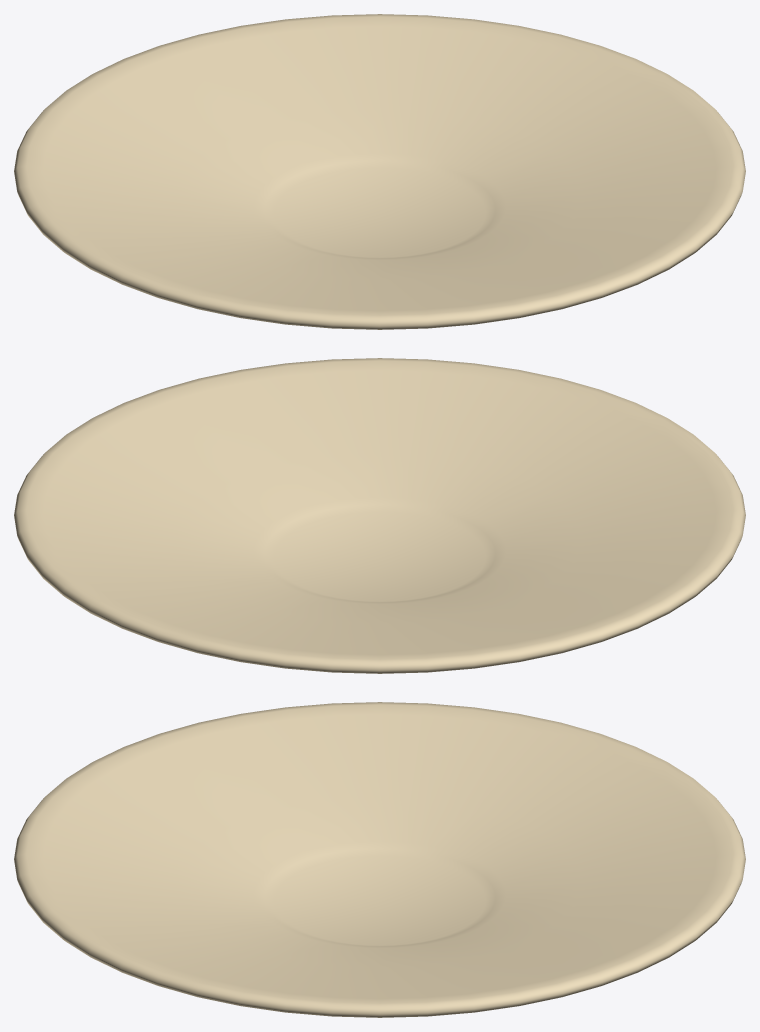
File: Pirex.fbx
The picture shows the model from 3 angles, top to bottom: view 1: azimuth 30°, elevation 25°; view 2: azimuth 150°, elevation 25°; view 3: azimuth 270°, elevation 25°; orthographic projection.
Visible parts, largest first — view 1: Pirex; view 2: Pirex; view 3: Pirex.
Boxes of the visible parts, <box> form: Pirex: <box>14,14,745,329</box>; Pirex: <box>14,358,745,673</box>; Pirex: <box>14,702,745,1017</box>.
Bounding box in the file's own units: 14.38 × 1.36 × 14.38.
